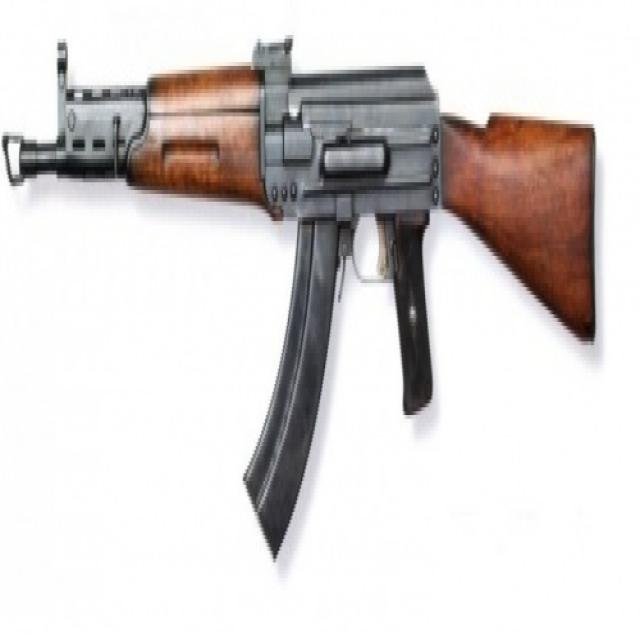rifle: (3, 23, 607, 589)
